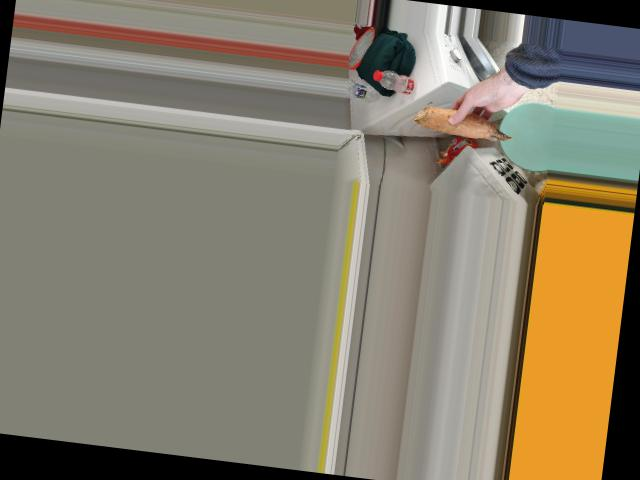sweet_potato: (422, 102, 508, 141)
